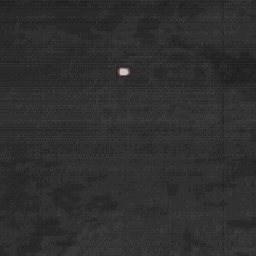Target: (116, 66, 131, 78)
